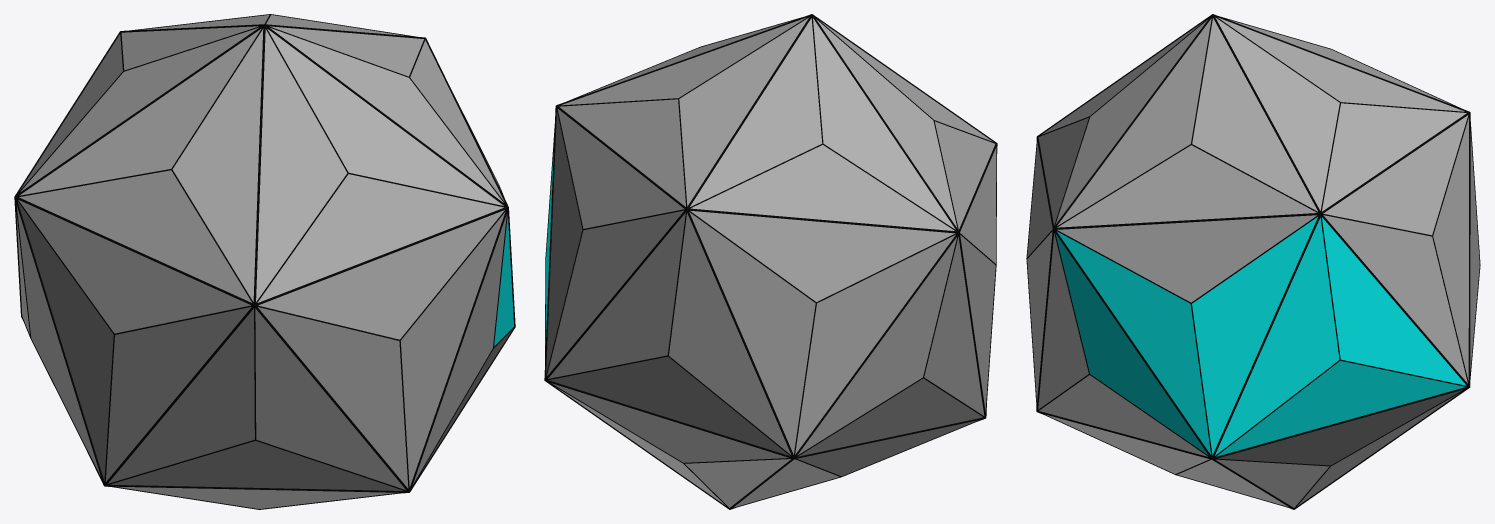
The model's file is TriakisIcosahedron6_5.glb.
The picture shows the model from 3 angles, left to right: view 1: azimuth 30°, elevation 25°; view 2: azimuth 150°, elevation 25°; view 3: azimuth 270°, elevation 25°; orthographic projection. The views are drawn at different scales.
Bounding box in the file's own units: 6.26 × 6.8 × 5.89.
